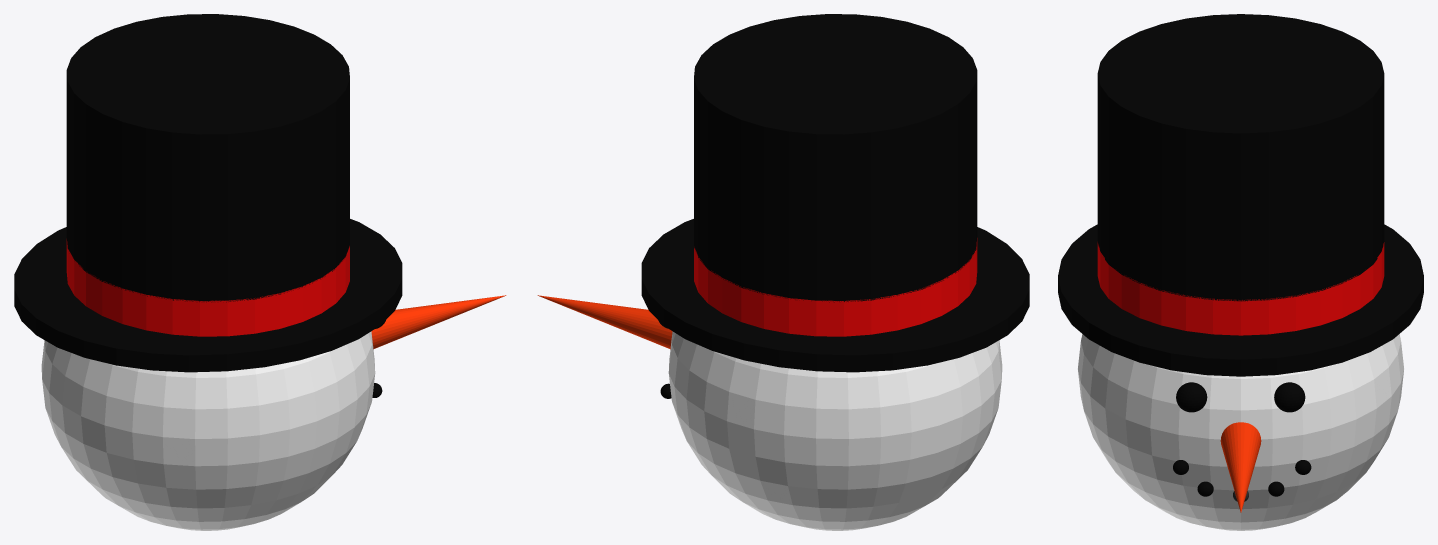
The model's file is snowman_head.glb.
The picture shows the model from 3 angles, left to right: view 1: azimuth 30°, elevation 25°; view 2: azimuth 150°, elevation 25°; view 3: azimuth 270°, elevation 25°; orthographic projection.
Visible parts, largest first — view 1: Object_13, Object_2, Object_11, Object_12, Object_3; view 2: Object_13, Object_2, Object_11, Object_12, Object_3; view 3: Object_13, Object_2, Object_11, Object_12, Object_3, Object_4, Object_5.
Boxes of the visible parts, box(x1,y1,x2,y2) form: Object_13: box(66, 14, 349, 302); Object_2: box(41, 331, 375, 530); Object_11: box(14, 219, 402, 372); Object_12: box(66, 239, 349, 336); Object_3: box(371, 295, 506, 349); Object_13: box(694, 14, 977, 302); Object_2: box(668, 331, 1002, 530); Object_11: box(641, 219, 1029, 372); Object_12: box(694, 238, 977, 336); Object_3: box(537, 295, 672, 349); Object_13: box(1097, 14, 1384, 301); Object_2: box(1078, 334, 1403, 530); Object_11: box(1058, 224, 1423, 376); Object_12: box(1097, 242, 1384, 335); Object_3: box(1220, 422, 1261, 512); Object_4: box(1274, 382, 1305, 412); Object_5: box(1176, 382, 1207, 412).
Size of the model in its own units: 4.61 by 4.12 by 3.1.
